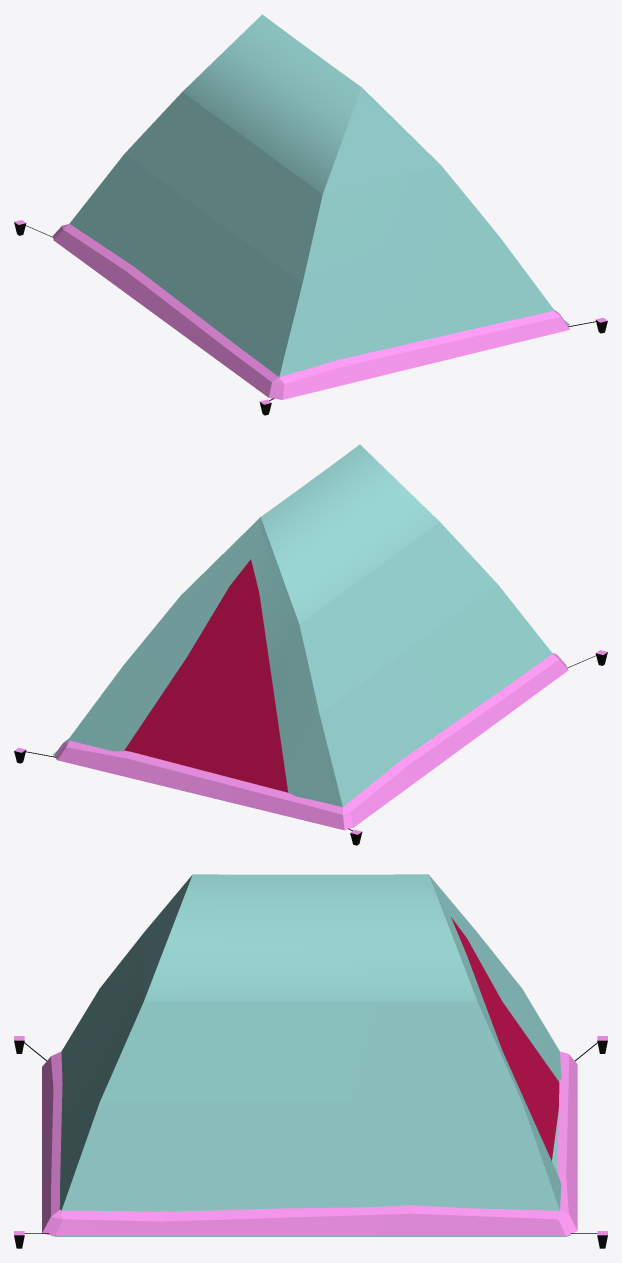
The model's file is Tent_Model.fbx.
3 views of the same model, one above another, from view 1: azimuth 30°, elevation 25°; view 2: azimuth 150°, elevation 25°; view 3: azimuth 270°, elevation 25° (orthographic). The views are drawn at different scales.
Visible parts, largest first — view 1: Tent, Snow; view 2: Tent, Black, Snow; view 3: Tent, Snow, Black, Palitos.
Part boxes in pixels (x1,y1,x2,y2): Tent: (69, 14, 569, 399); Snow: (14, 220, 607, 404); Tent: (52, 444, 552, 806); Black: (124, 559, 288, 792); Snow: (14, 650, 607, 834); Tent: (51, 874, 570, 1236); Snow: (14, 1036, 607, 1235); Black: (451, 917, 559, 1160); Palitos: (14, 1040, 607, 1248).
Size of the model in its own units: 2.57 by 1.66 by 3.23.
